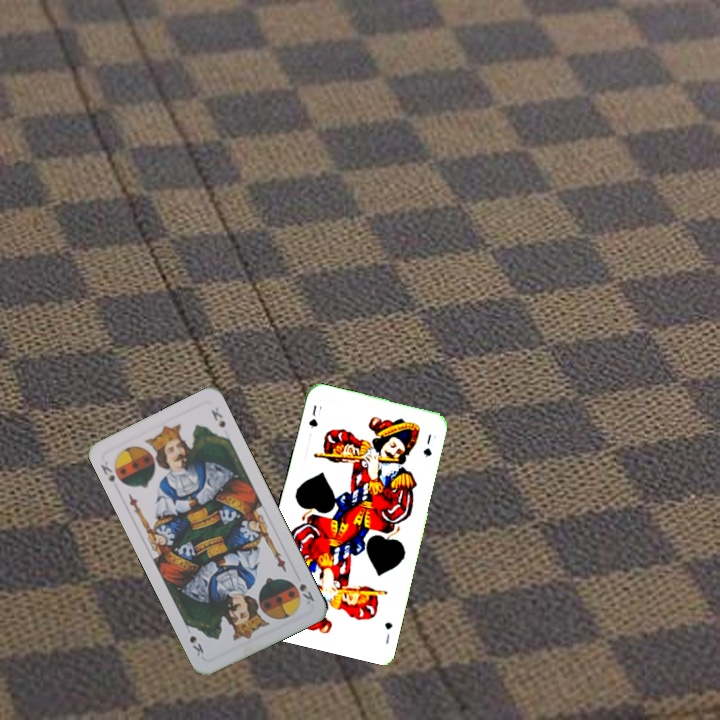GU: (305, 401, 320, 431), (381, 618, 395, 646)
SK: (289, 579, 317, 604), (97, 457, 117, 485)
